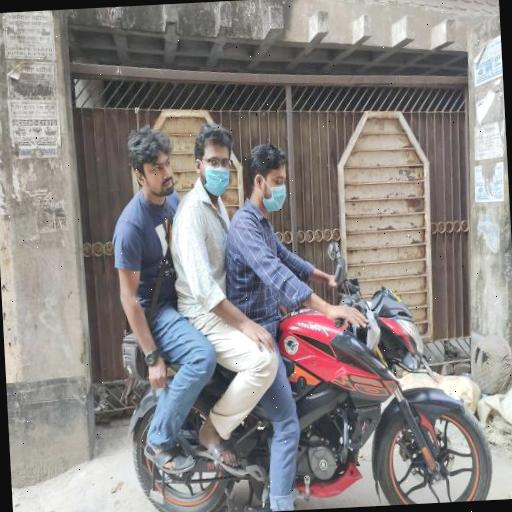no helmet: (228, 122, 312, 236)
triple riding: (75, 83, 496, 512)
